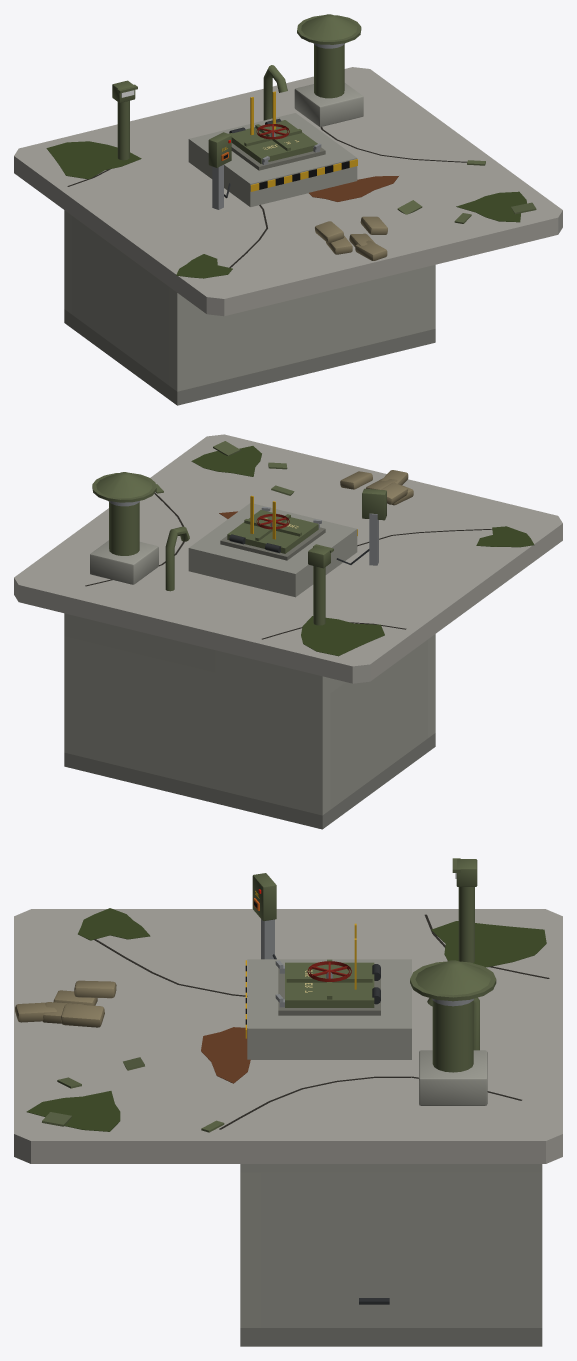
Rendered from bunker-hatch.glb.
The picture shows the model from 3 angles, top to bottom: view 1: azimuth 30°, elevation 25°; view 2: azimuth 150°, elevation 25°; view 3: azimuth 270°, elevation 25°; orthographic projection. The views are drawn at different scales.
Visible parts, largest first — view 1: C0_0_lod0, C0_-1_lod0, C-1_0_lod0, C-1_-1_lod0; view 2: C0_0_lod0, C-1_0_lod0, C-1_-1_lod0, C0_-1_lod0; view 3: C0_0_lod0, C0_-1_lod0, C-1_-1_lod0, C-1_0_lod0.
Boxes of the visible parts, box(x1,y1,x2,y2) form: C0_0_lod0: box(14, 14, 562, 405); C0_-1_lod0: box(169, 143, 536, 391); C-1_0_lod0: box(72, 80, 253, 385); C-1_-1_lod0: box(208, 132, 387, 260); C0_0_lod0: box(14, 434, 562, 829); C-1_0_lod0: box(215, 501, 427, 809); C-1_-1_lod0: box(313, 470, 413, 565); C0_-1_lod0: box(156, 441, 435, 737); C0_0_lod0: box(14, 908, 562, 1346); C0_-1_lod0: box(42, 992, 284, 1327); C-1_-1_lod0: box(15, 873, 284, 1023); C-1_0_lod0: box(354, 858, 477, 980).
Size of what is drawn, in the model's own units: 8.03 by 5.89 by 8.
